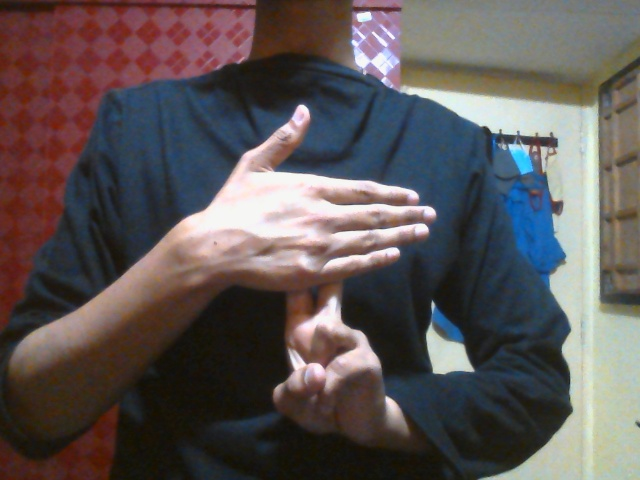N: (209, 103, 435, 444)
